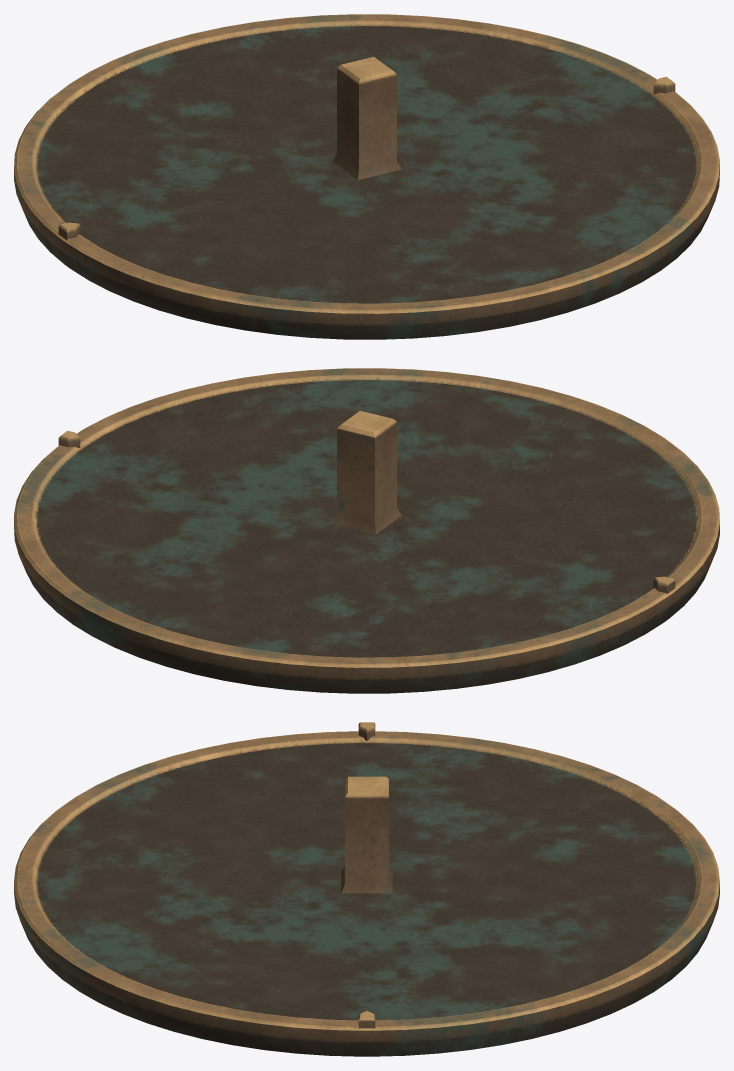
Rendered from Bed.fbx.
3 renders of one model, top to bottom at view 1: azimuth 30°, elevation 25°; view 2: azimuth 150°, elevation 25°; view 3: azimuth 270°, elevation 25°, orthographic.
Parts seen in each view (by area): view 1: Bed; view 2: Bed; view 3: Bed.
Boxes of the visible parts, x1,y1,x2,y2 form: Bed: (14,14,719,339); Bed: (14,368,719,693); Bed: (14,722,719,1056).
Bounding box in the file's own units: 0.386 × 0.076 × 0.386.
1 material, 1 textured.
